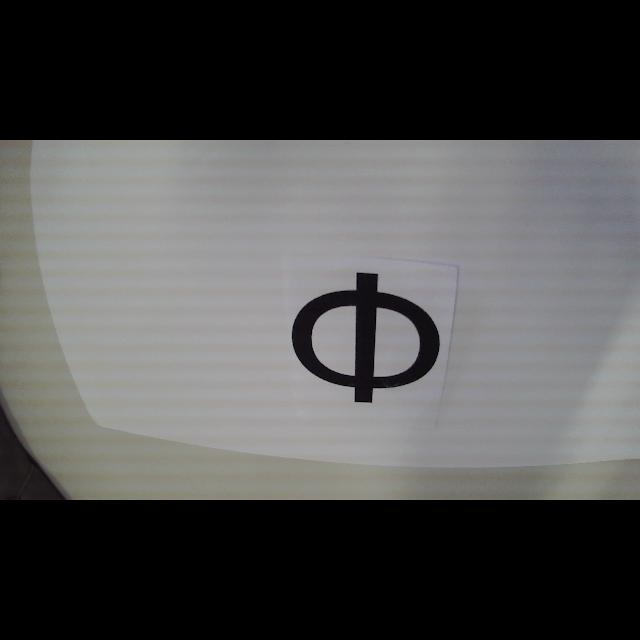PHI: (292, 272, 440, 402)
